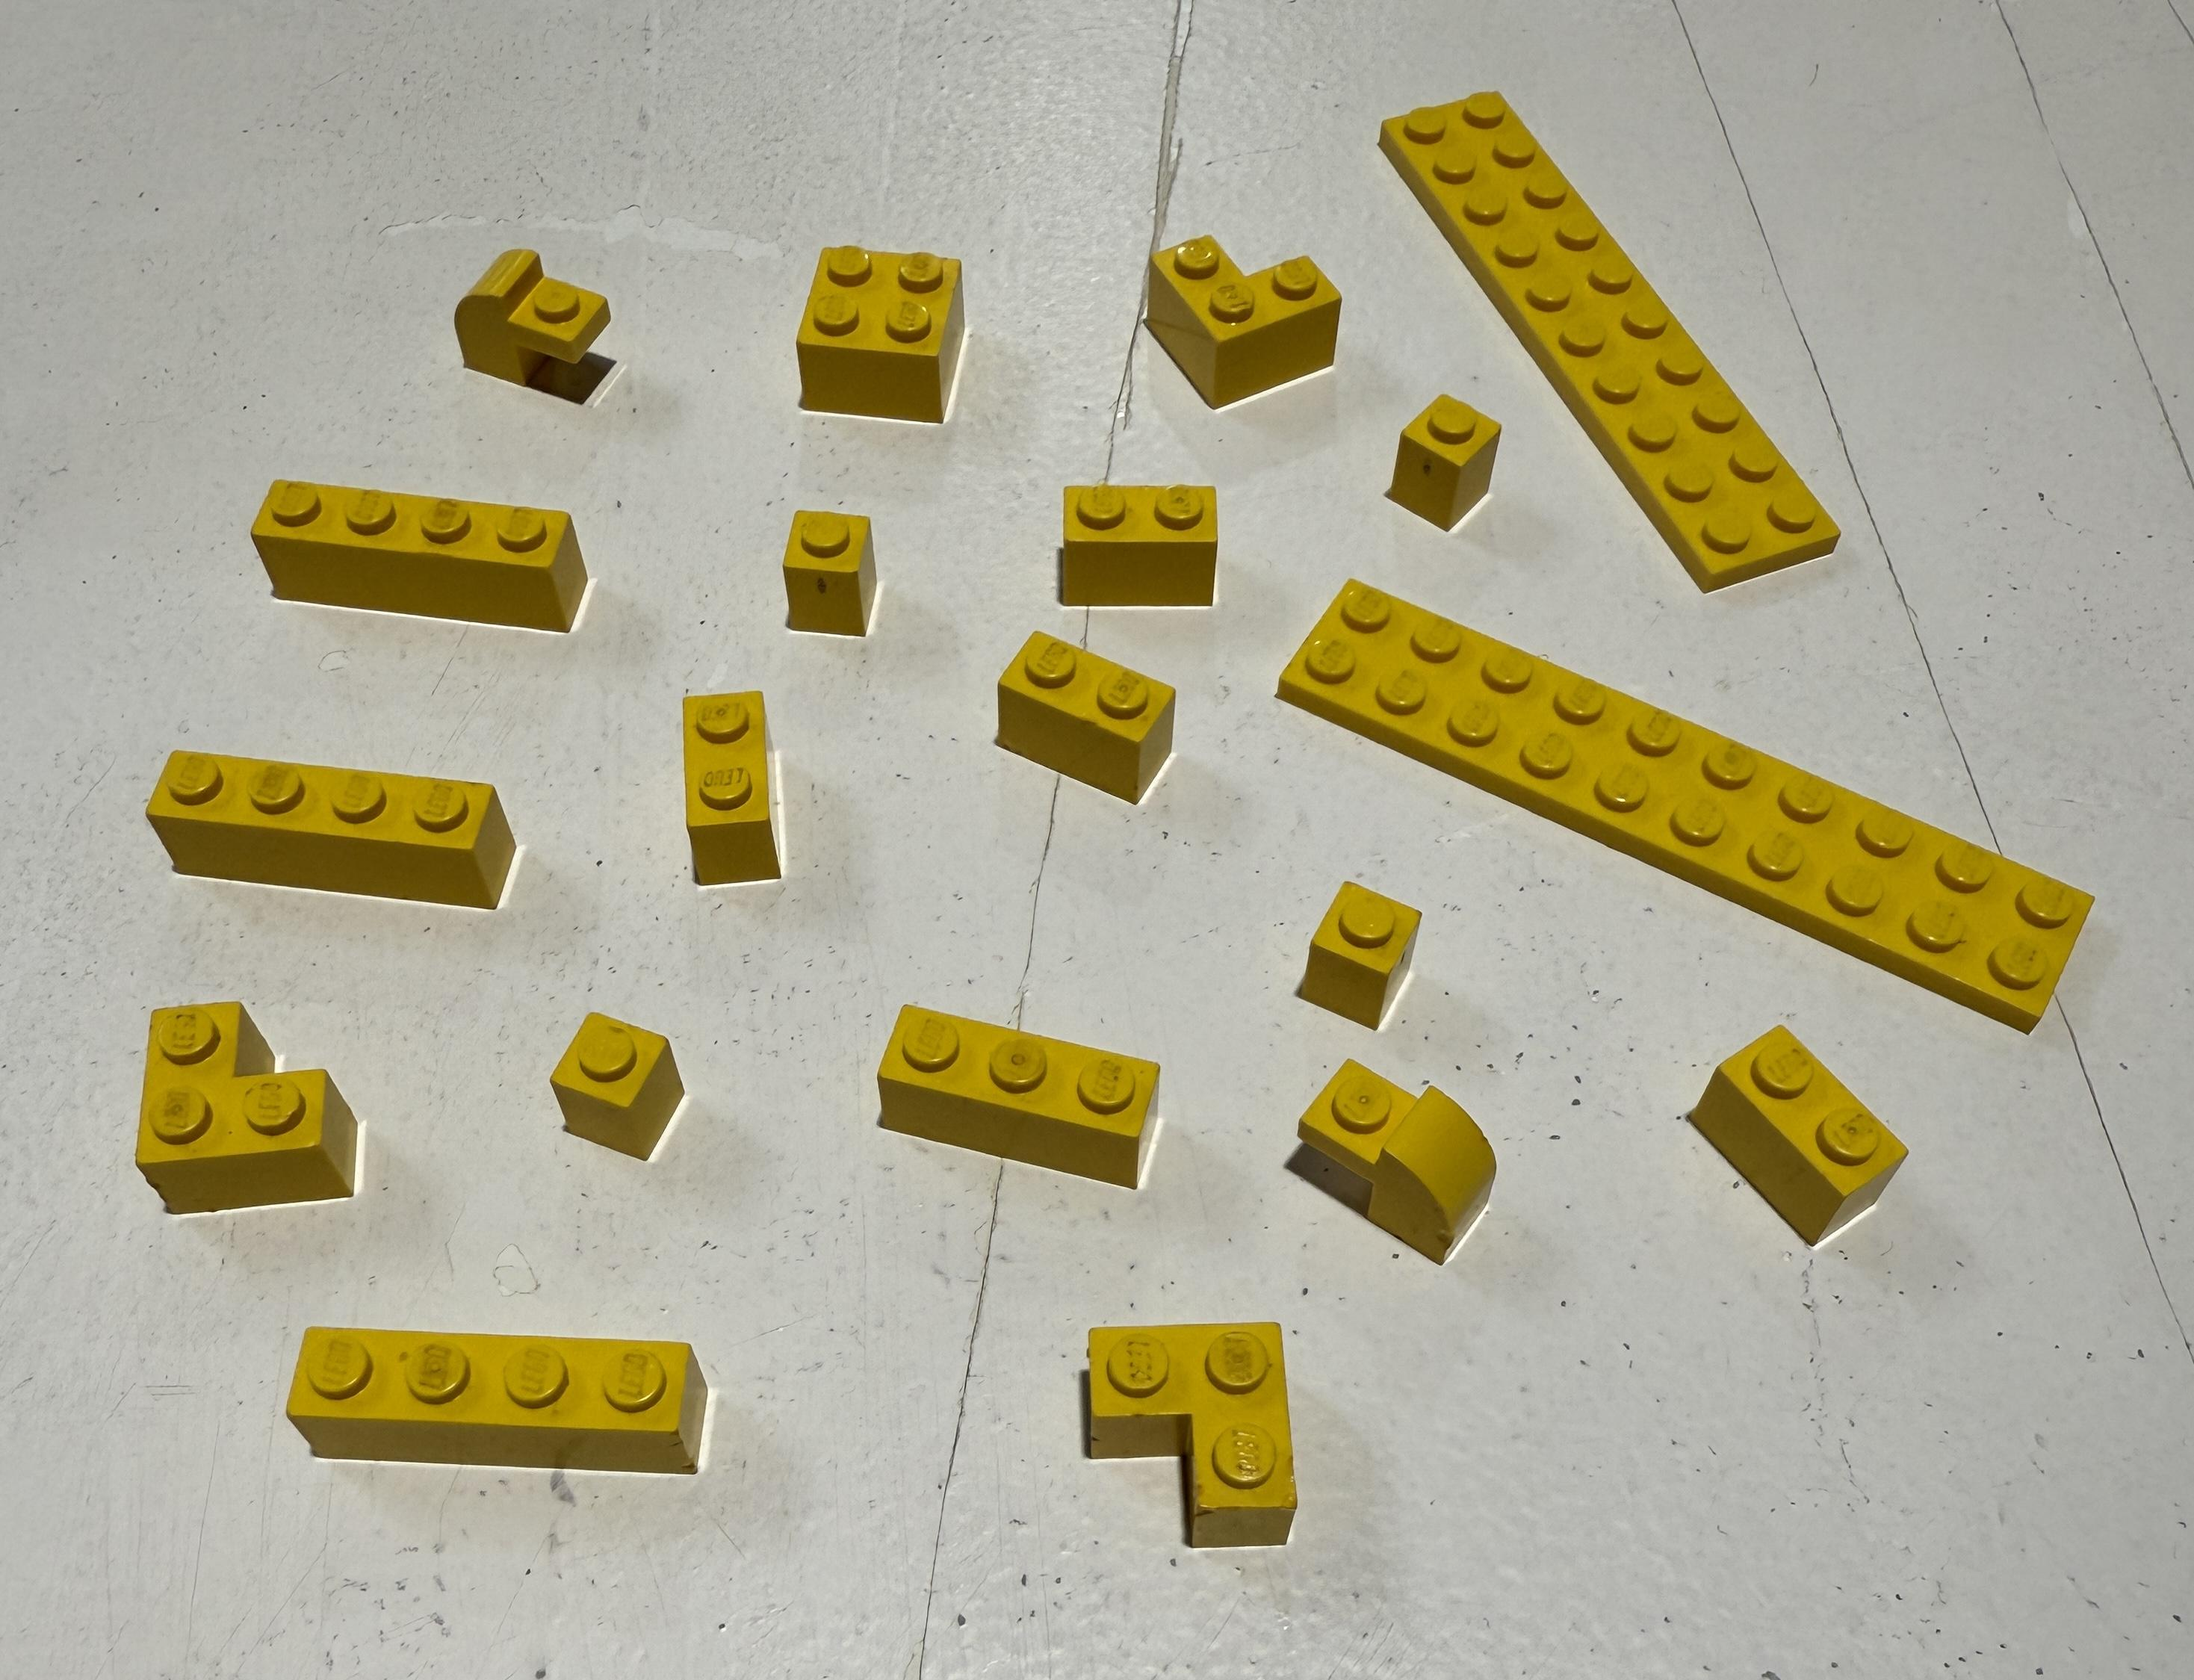brick_1x1: (530, 978, 741, 1188), (1269, 851, 1449, 1041), (1359, 364, 1536, 552), (747, 489, 932, 664)
brick_1x2: (1680, 965, 1929, 1294), (966, 605, 1227, 821), (1017, 466, 1271, 630), (657, 671, 823, 904)
brick_1x3: (856, 974, 1221, 1211)
brick_1x4: (259, 1299, 745, 1498), (115, 731, 552, 930), (217, 471, 621, 662)
brick_2x2: (764, 224, 980, 446)
